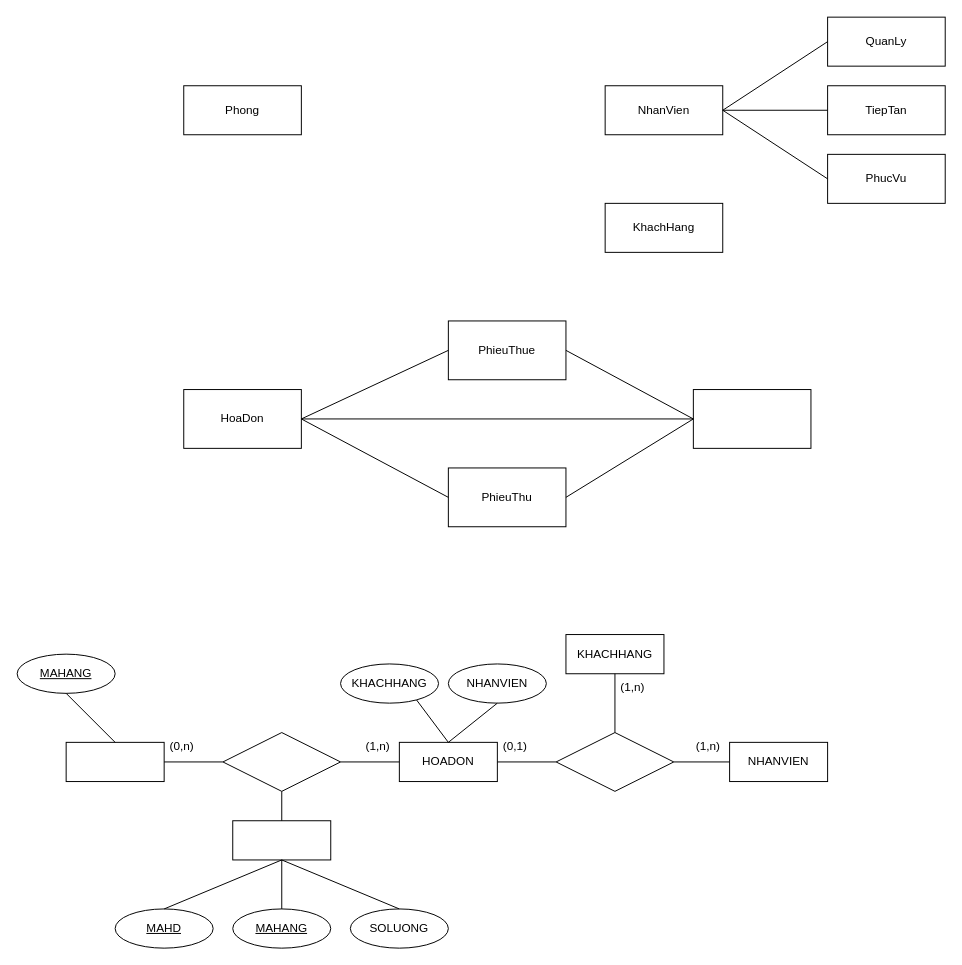
The diagram is 962 pixels wide and 965 high, and some of its shapes have lost their labels. The shapes that lost their labels are listed below. From the top down, each one's centre as x and y in pixels, then its label:
point (751, 418): Phieu
point (114, 761): MATHANG
point (281, 761): Thuộc
point (614, 761): Bán
point (281, 840): CTHOADON
